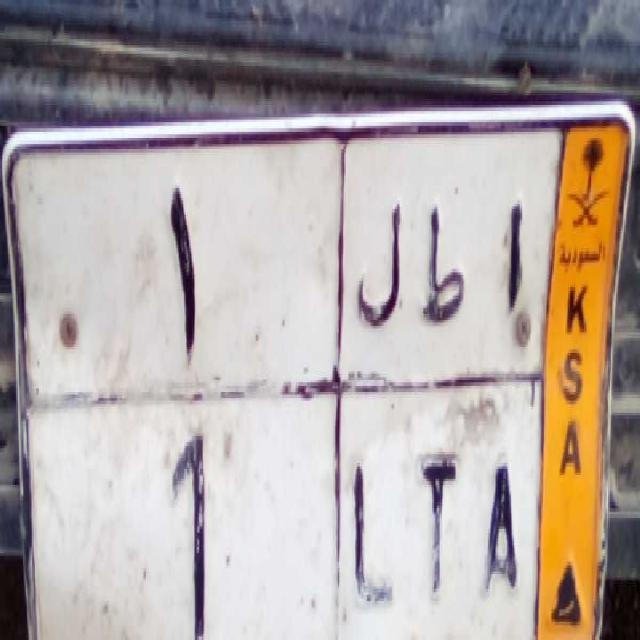license_plate: (20, 393, 544, 640)
